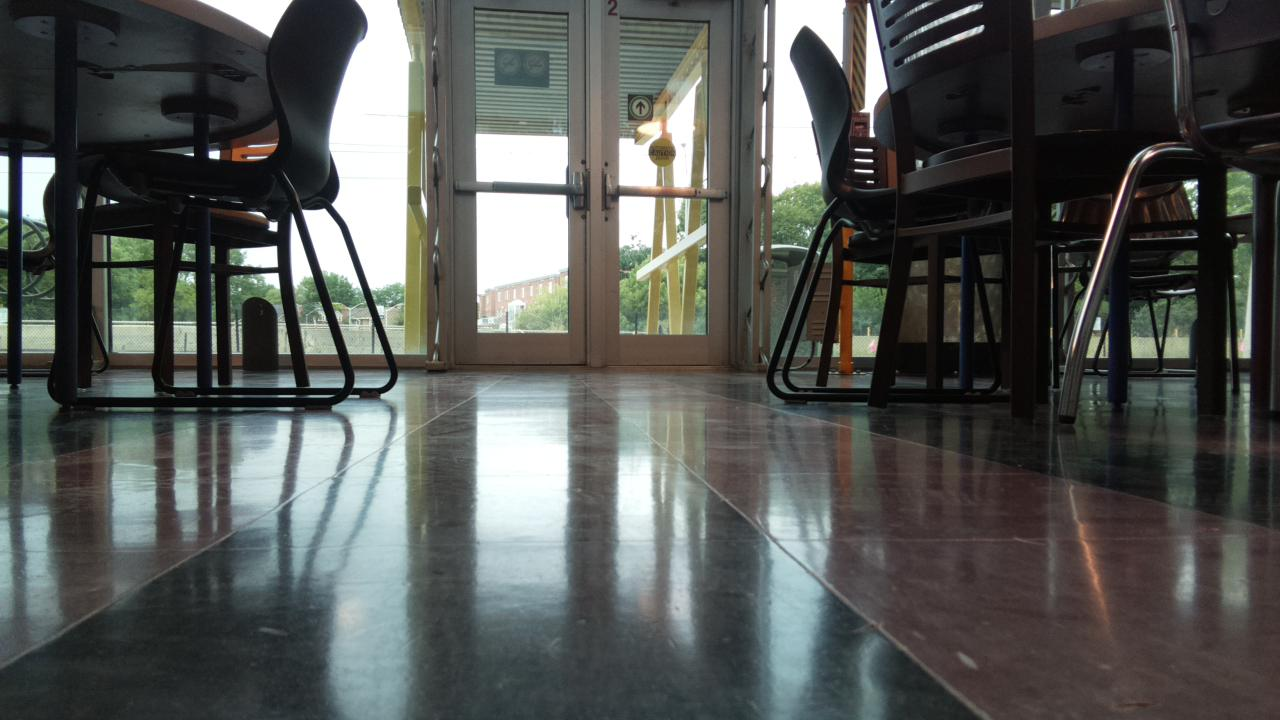door: (452, 0, 732, 366)
sign: (628, 94, 653, 120)
